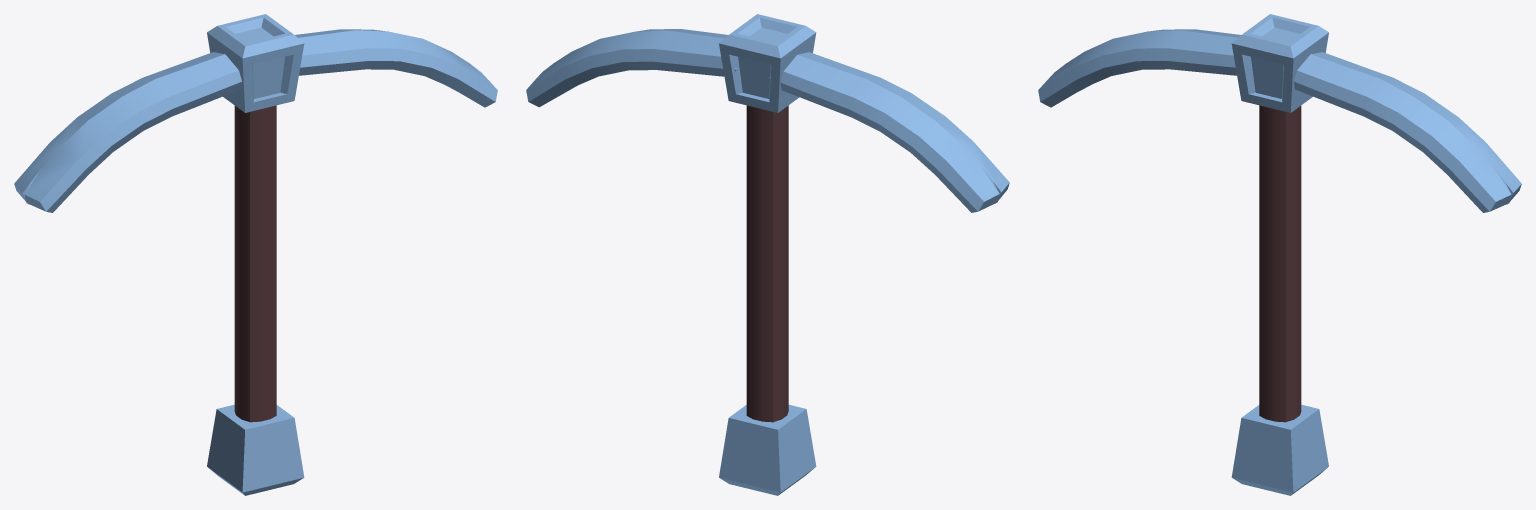
Rendered from pickaxe.fbx.
3 renders of one model, left to right at view 1: azimuth 30°, elevation 25°; view 2: azimuth 150°, elevation 25°; view 3: azimuth 330°, elevation 25°, orthographic.
Parts seen in each view (by area): view 1: Cube.014; view 2: Cube.014; view 3: Cube.014.
Boxes of the visible parts, x1=… form: Cube.014: x1=14, y1=14, x2=497, y2=495; Cube.014: x1=526, y1=14, x2=1009, y2=495; Cube.014: x1=1038, y1=14, x2=1521, y2=495.
Size of the model in its own units: 1.21 by 1.11 by 0.1603.
